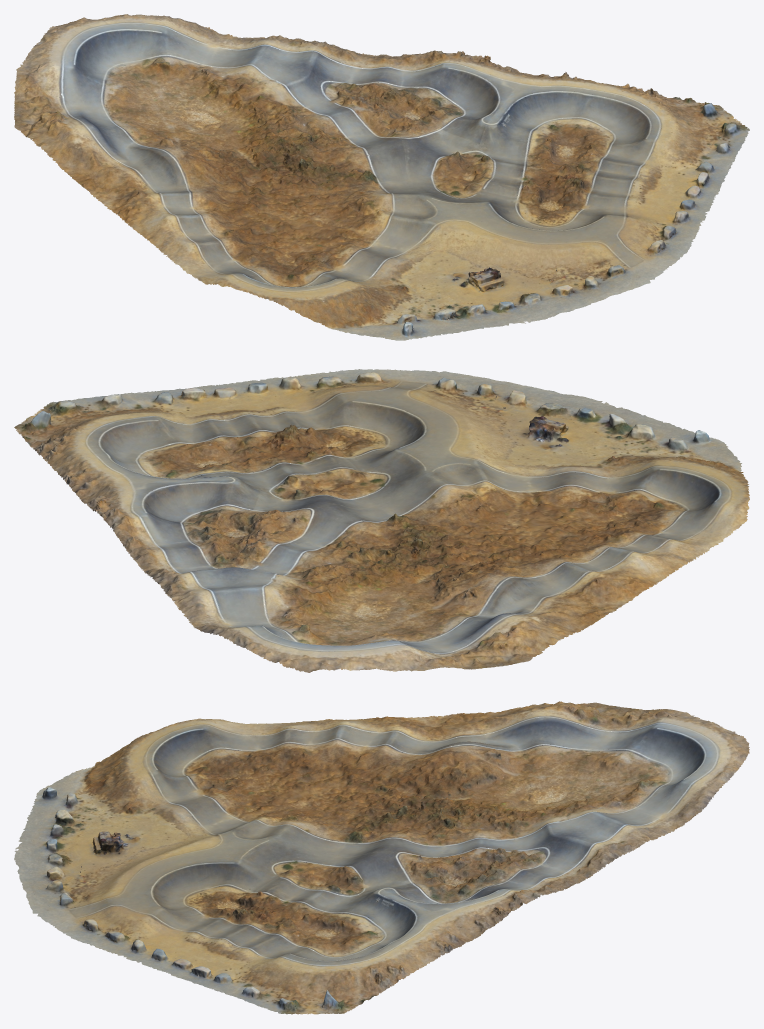
File: showcaseRaceTestTrack.d19877c3.glb
3 views of the same model, one above another, from view 1: azimuth 30°, elevation 25°; view 2: azimuth 150°, elevation 25°; view 3: azimuth 270°, elevation 25° (orthographic). The views are drawn at different scales.
Visible parts, largest first — view 1: Object_2, Object_3, Object_4; view 2: Object_2, Object_3, Object_4; view 3: Object_2, Object_3, Object_4.
Part boxes in pixels (bbox=[...]): Object_2: bbox=[14, 14, 545, 340]; Object_3: bbox=[245, 35, 749, 334]; Object_4: bbox=[332, 44, 502, 339]; Object_2: bbox=[75, 407, 749, 672]; Object_3: bbox=[14, 369, 748, 617]; Object_4: bbox=[96, 413, 736, 578]; Object_2: bbox=[18, 701, 749, 945]; Object_3: bbox=[14, 734, 666, 1014]; Object_4: bbox=[26, 774, 609, 910].
Bounding box in the file's own units: 49.83 × 5.17 × 54.53.
1 material, 1 textured.
